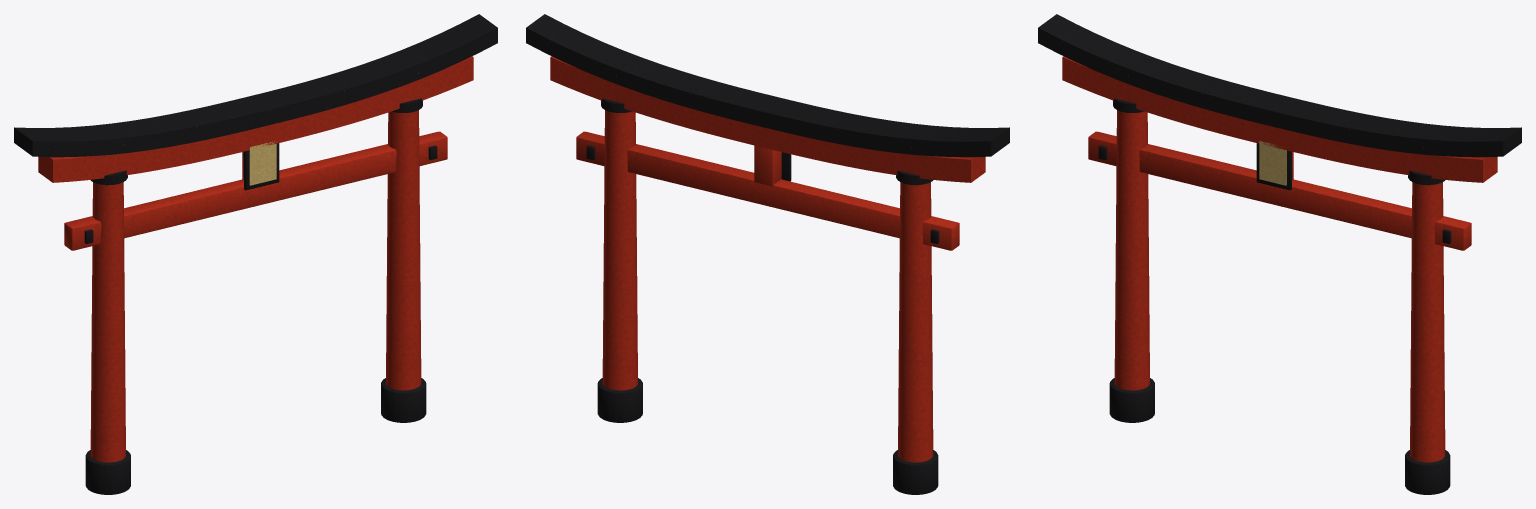
Rendered from gate.gltf.
3 renders of one model, left to right at view 1: azimuth 30°, elevation 25°; view 2: azimuth 150°, elevation 25°; view 3: azimuth 330°, elevation 25°, orthographic.
Visible parts, largest first — view 1: GateMesh; view 2: GateMesh; view 3: GateMesh.
Boxes of the visible parts, x1=… form: GateMesh: x1=14, y1=14, x2=497, y2=494; GateMesh: x1=526, y1=14, x2=1009, y2=494; GateMesh: x1=1038, y1=14, x2=1521, y2=494.
Bounding box in the file's own units: 6.3 × 4.82 × 0.5363.
Materials: 3 (3 with a texture image).
